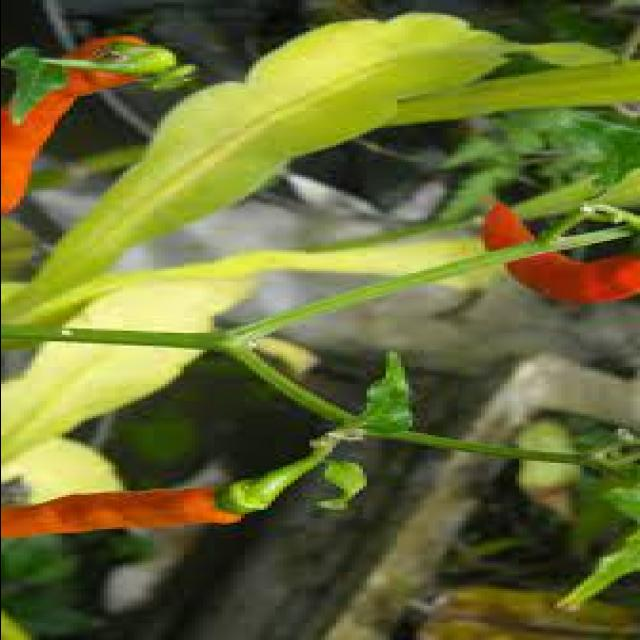virus_kuning: (8, 10, 534, 304)
